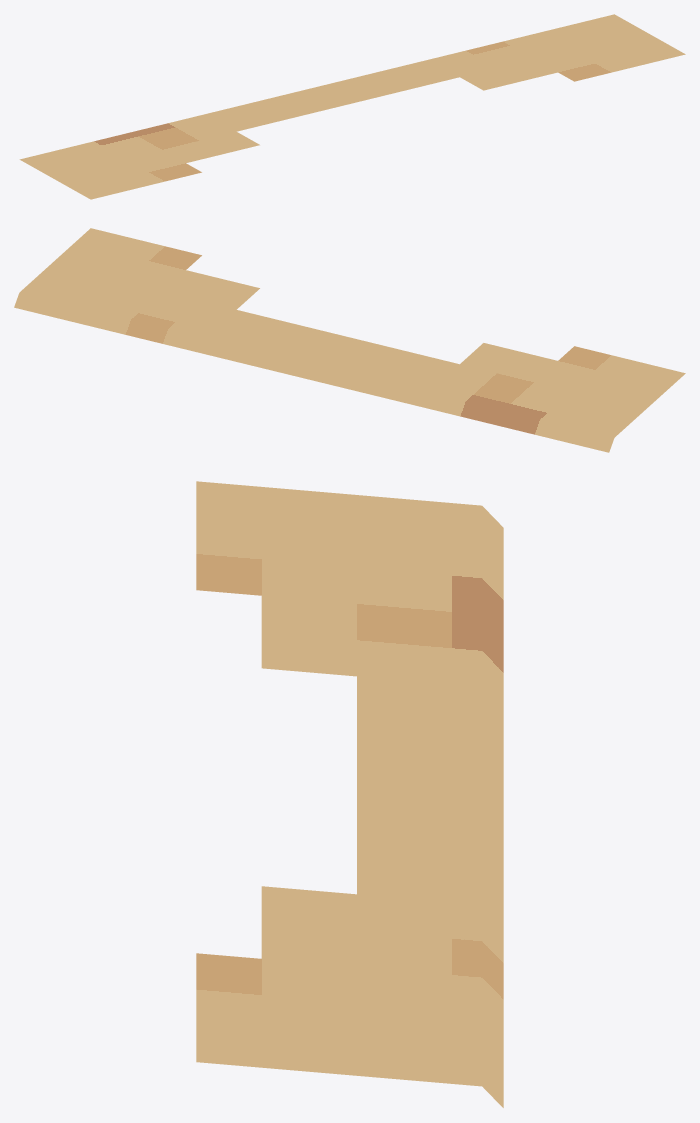
3 views of the same model, one above another, from view 1: azimuth 30°, elevation 25°; view 2: azimuth 150°, elevation 25°; view 3: azimuth 270°, elevation 25° (orthographic). The views are drawn at different scales.
Bounding box in the file's own units: 1 × 0.0373 × 0.2236.
1 material, 1 textured.
